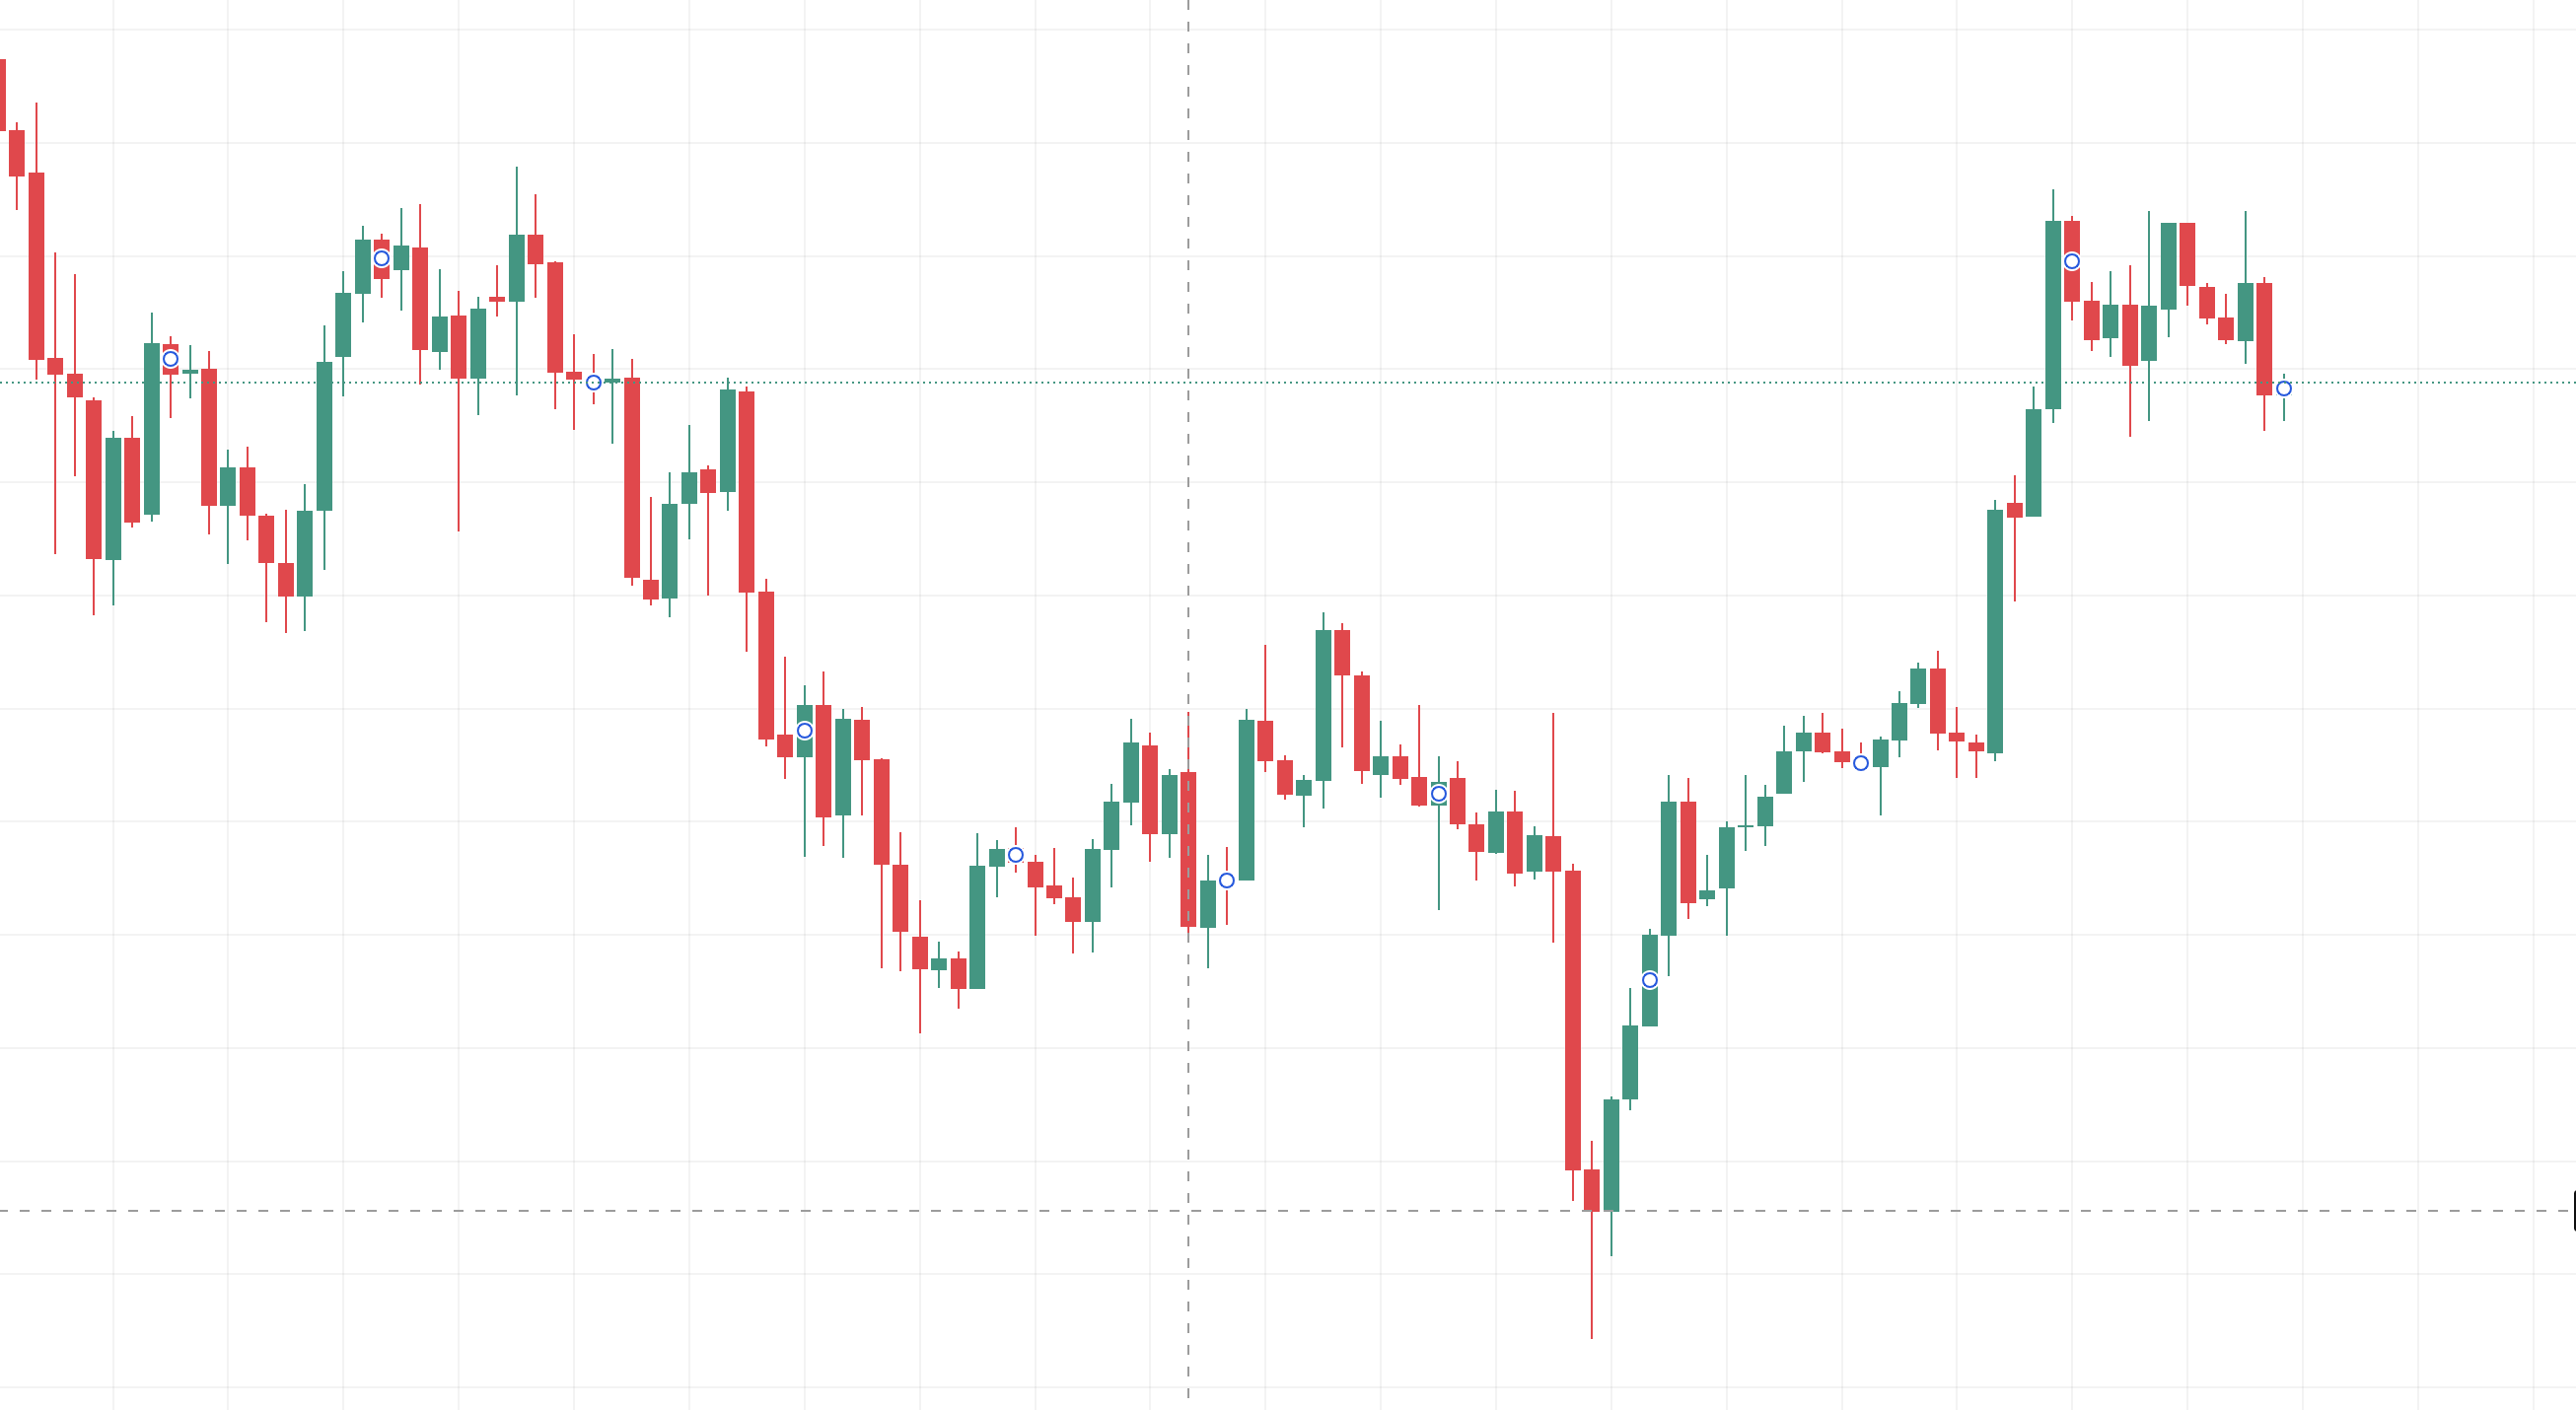V-turn: (1313, 476, 1671, 1367)
